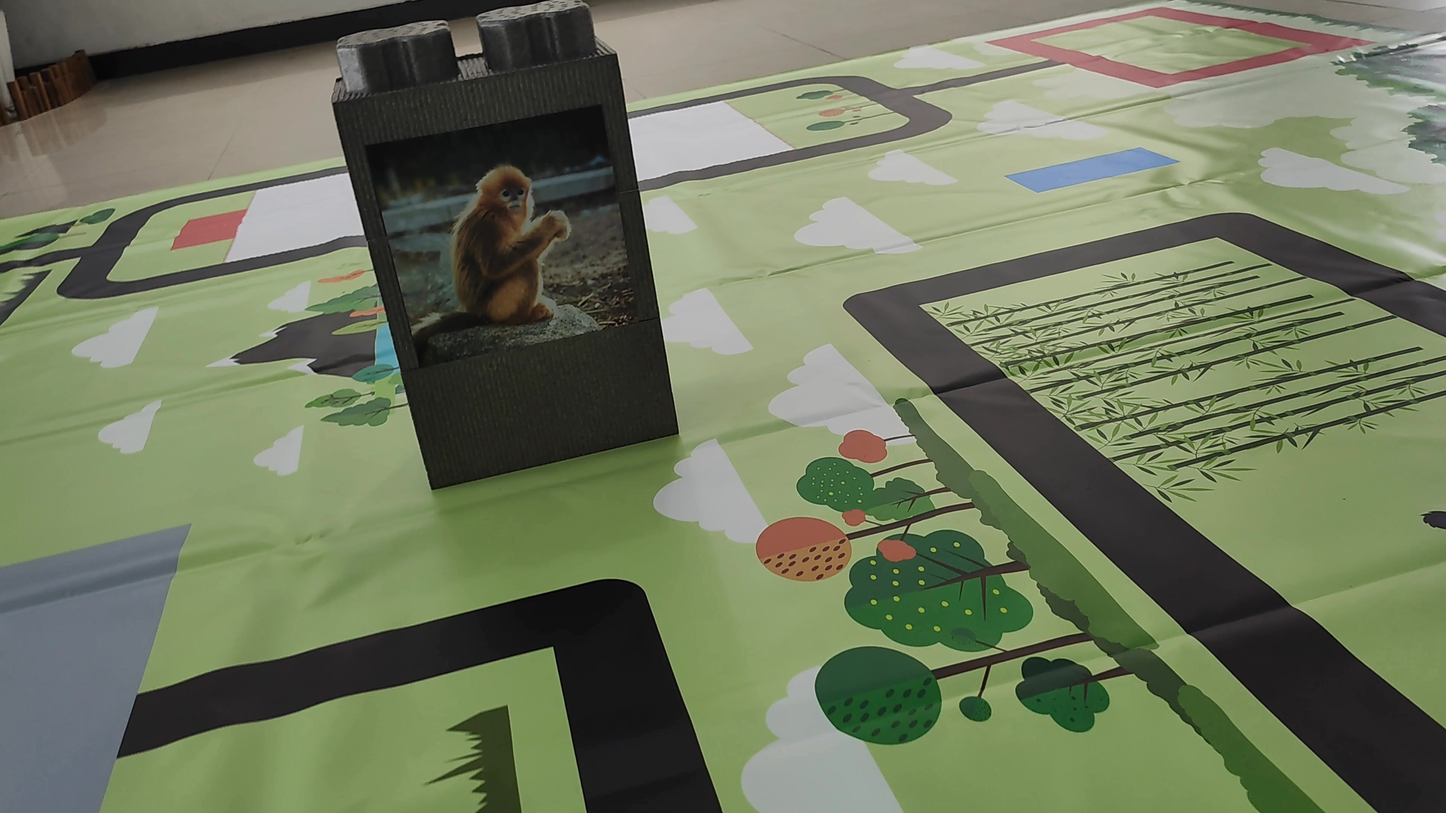monkey: (394, 157, 582, 344)
